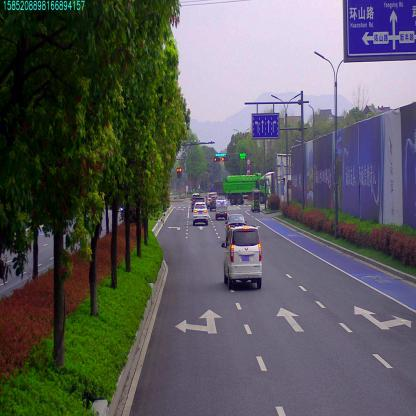traffic-light: (214, 157, 221, 162), (215, 152, 226, 155), (221, 158, 226, 161)
